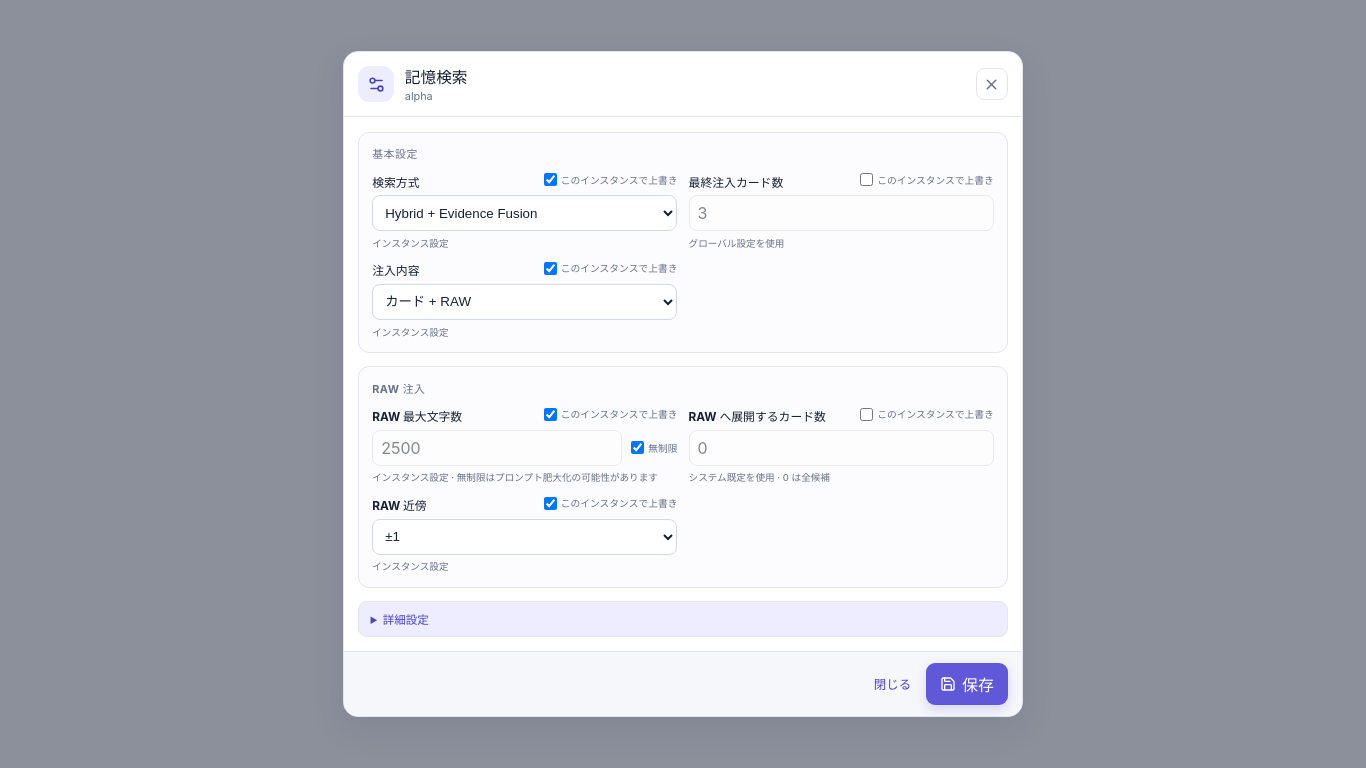
Test: MemoryRetrievalSettingsDialog › sends null for inherited fields and keeps exact numeric values
expect the element labelled "最終注入カード数" is shown: met, box [689,172,994,250]
Click the checkbox labelled "このインスタンスで上書き" next to "最終注入カード数" at (867, 180), box [860,173,873,186]
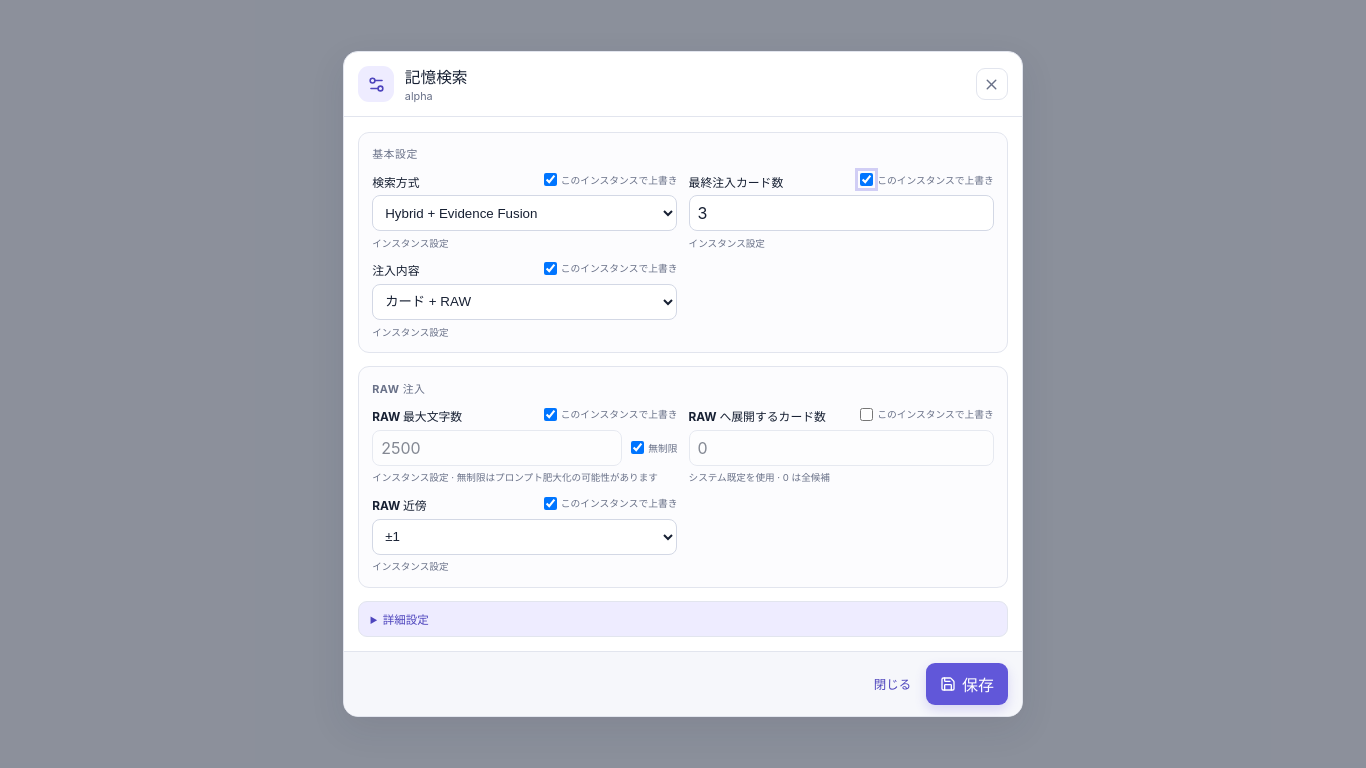
Replace the text in the number field labelled "最終注入カード数" with "5" at (841, 213), box [689,195,994,231]
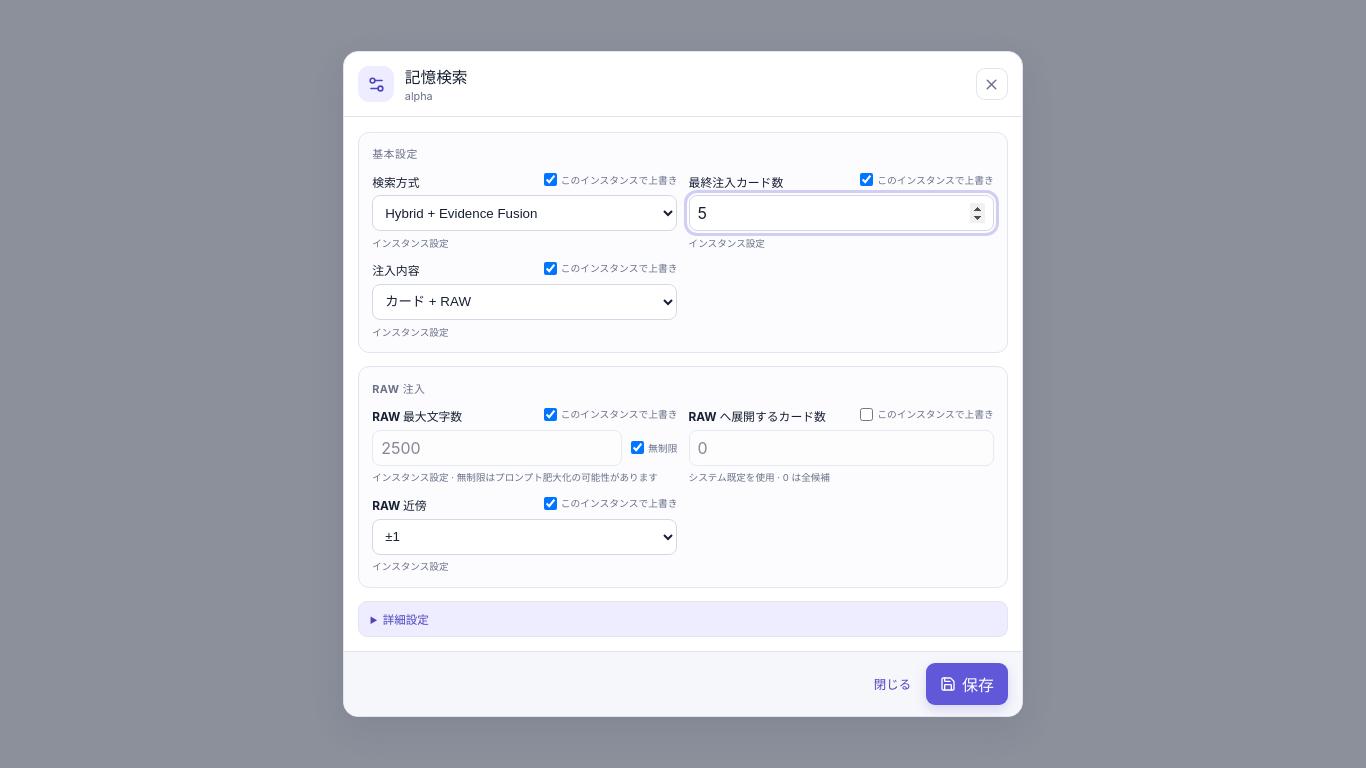
Click the button "保存" at (967, 684), box [926,663,1008,705]
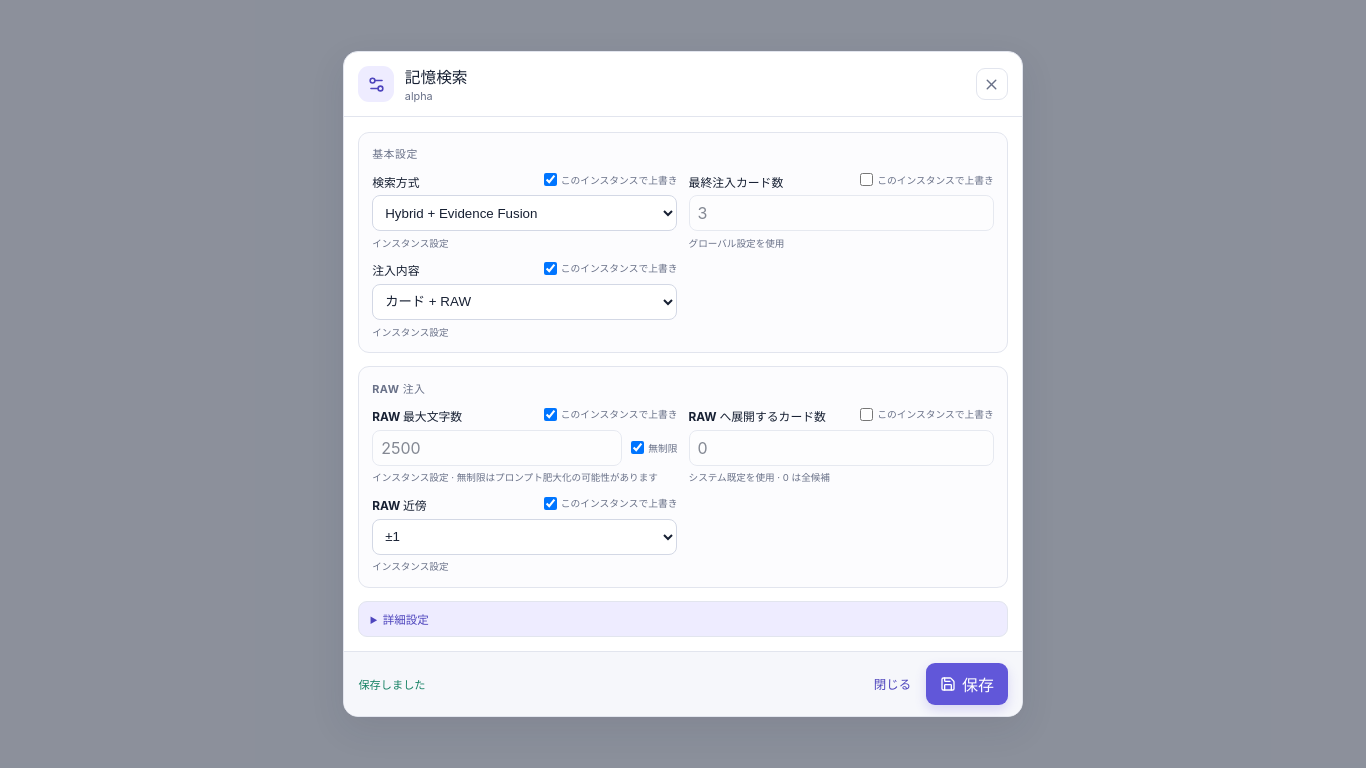
expect the text "保存しました" is shown: met, box [358,676,426,692]
